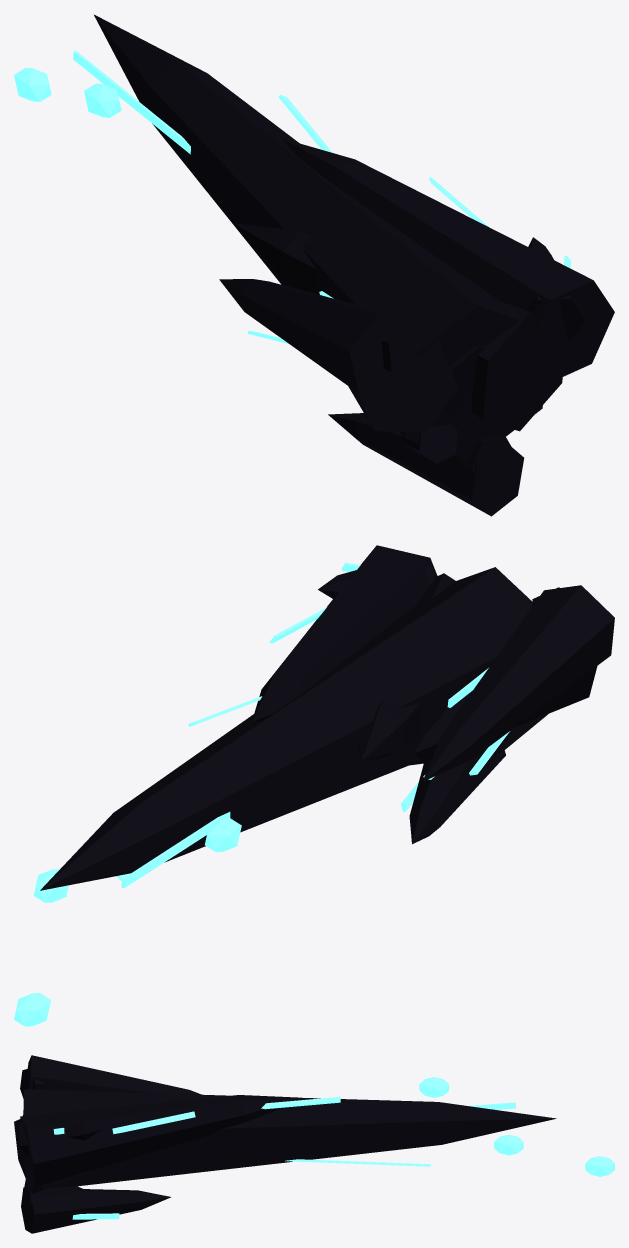
Rendered from CyberCrystalSpires.fbx.
The picture shows the model from 3 angles, top to bottom: view 1: azimuth 30°, elevation 25°; view 2: azimuth 150°, elevation 25°; view 3: azimuth 270°, elevation 25°; orthographic projection. The views are drawn at different scales.
Visible parts, largest first — view 1: CCS_variant tall spire crystal bodies, CCS_variant twin shard crystal bodies, CCS_variant shard bed crystal bodies, CCS_variant tall spire cyan veins, CCS_variant tall spire cyan floating shards; view 2: CCS_variant tall spire crystal bodies, CCS_variant twin shard crystal bodies, CCS_variant tall spire cyan veins, CCS_variant tall spire cyan floating shards, CCS_variant shard bed crystal bodies; view 3: CCS_variant tall spire crystal bodies, CCS_variant tall spire cyan veins, CCS_variant shard bed crystal bodies, CCS_variant tall spire cyan floating shards, CCS_variant twin shard crystal bodies.
Part boxes in pixels (x1,y1,x2,y2): CCS_variant tall spire crystal bodies: (94,14,614,516); CCS_variant twin shard crystal bodies: (233,223,562,432); CCS_variant shard bed crystal bodies: (381,237,586,472); CCS_variant tall spire cyan veins: (73,51,489,343); CCS_variant tall spire cyan floating shards: (14,67,121,117); CCS_variant tall spire crystal bodies: (40,545,614,890); CCS_variant twin shard crystal bodies: (358,573,597,765); CCS_variant tall spire cyan veins: (116,607,509,888); CCS_variant tall spire cyan floating shards: (14,818,241,1026); CCS_variant shard bed crystal bodies: (318,563,559,754); CCS_variant tall spire crystal bodies: (20,1055,556,1233); CCS_variant tall spire cyan veins: (72,1097,515,1219); CCS_variant shard bed crystal bodies: (19,1068,101,1210); CCS_variant tall spire cyan floating shards: (419,1077,614,1176); CCS_variant twin shard crystal bodies: (14,1089,93,1193).
Bounding box in the file's own units: 118 × 96.35 × 362.
